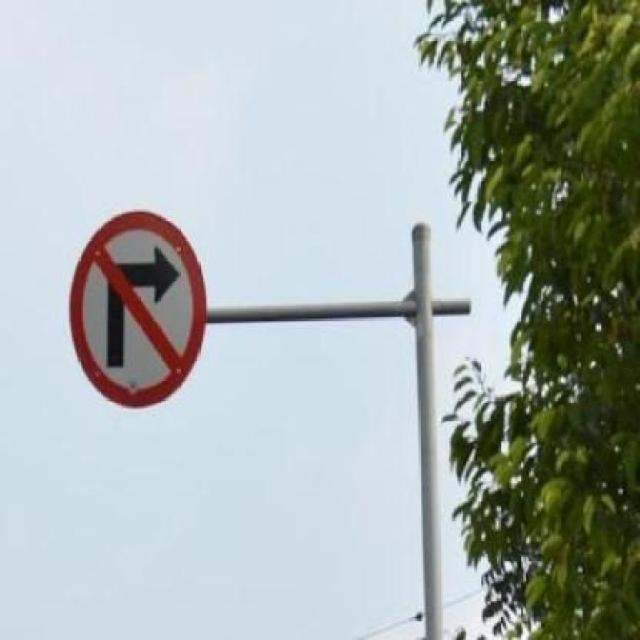right turn prohibited: (64, 207, 208, 408)
